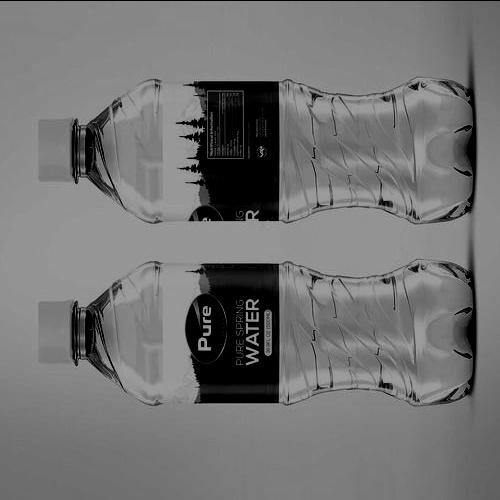bottle: (39, 254, 474, 420), (36, 72, 477, 221)
